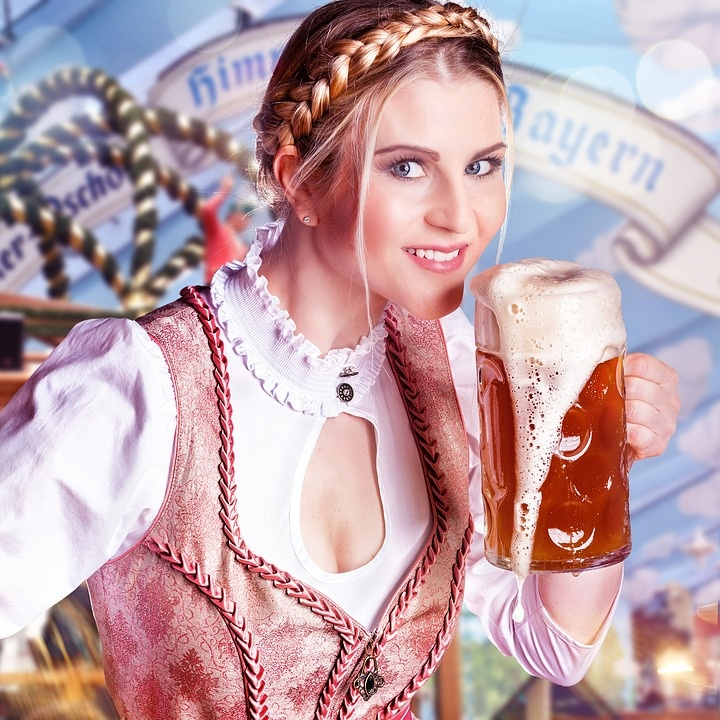glassBeer: (488, 262, 632, 571)
